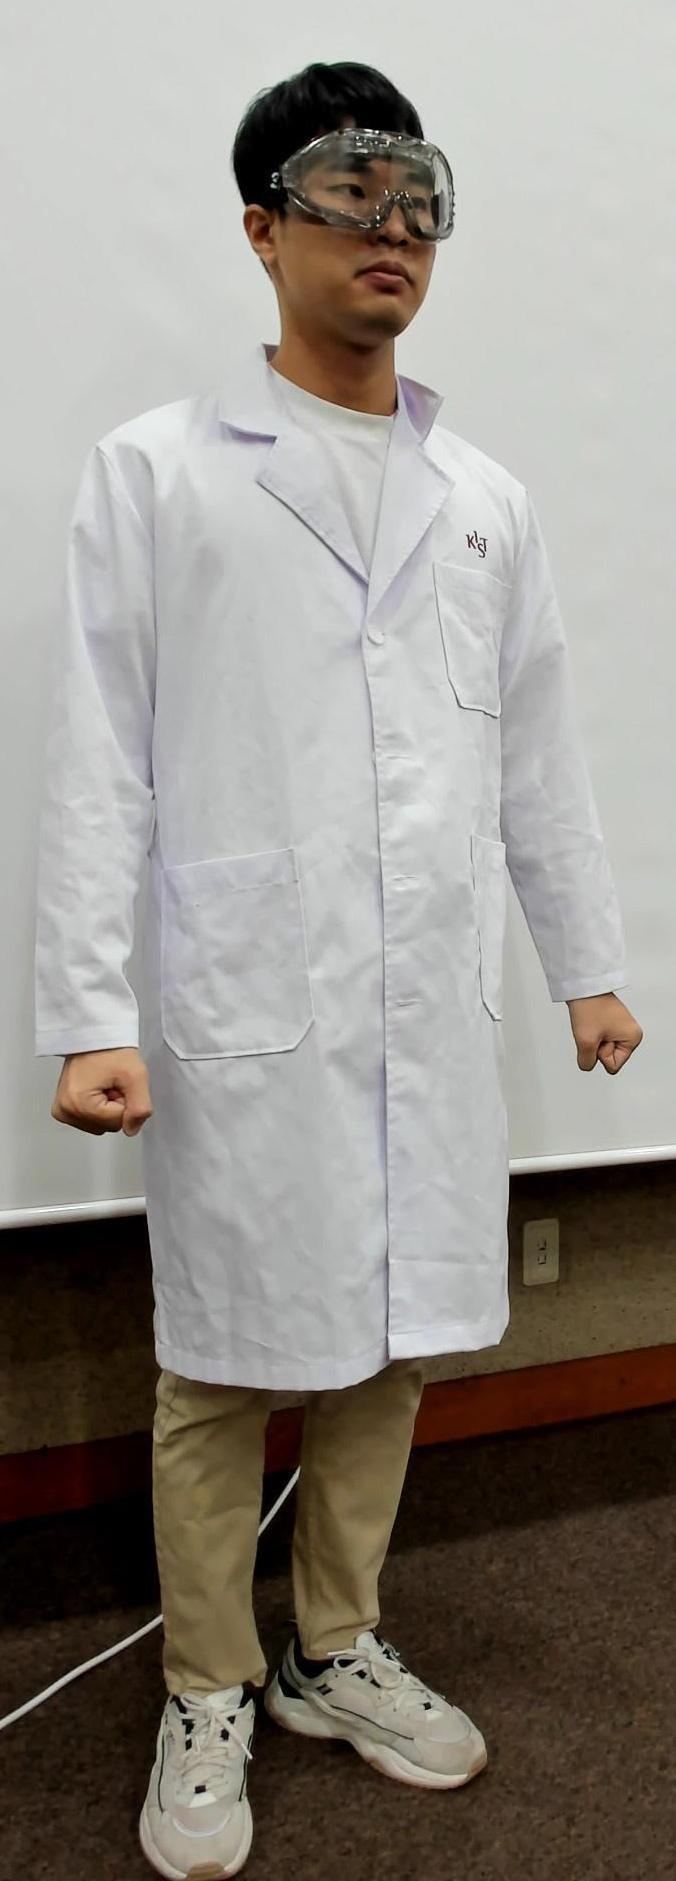lab_coat: (153, 401, 506, 1346)
